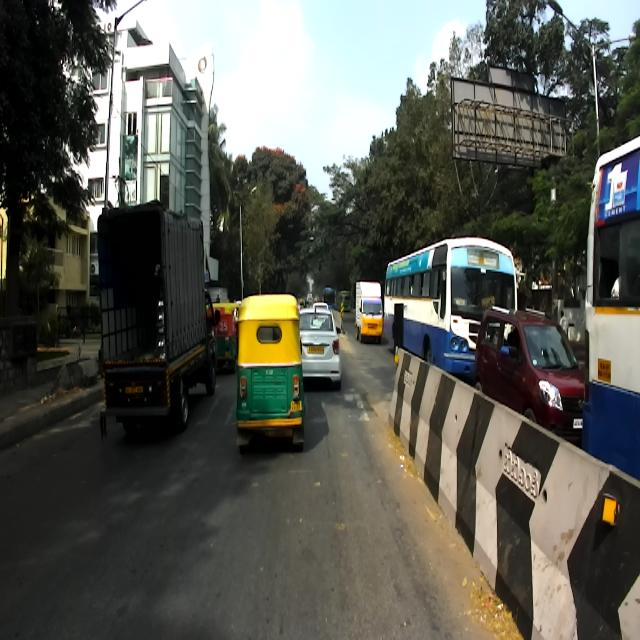auto ahead at: (234, 285, 306, 460)
barrier ahead at: (387, 338, 640, 640)
truck ahead at: (94, 196, 224, 438)
